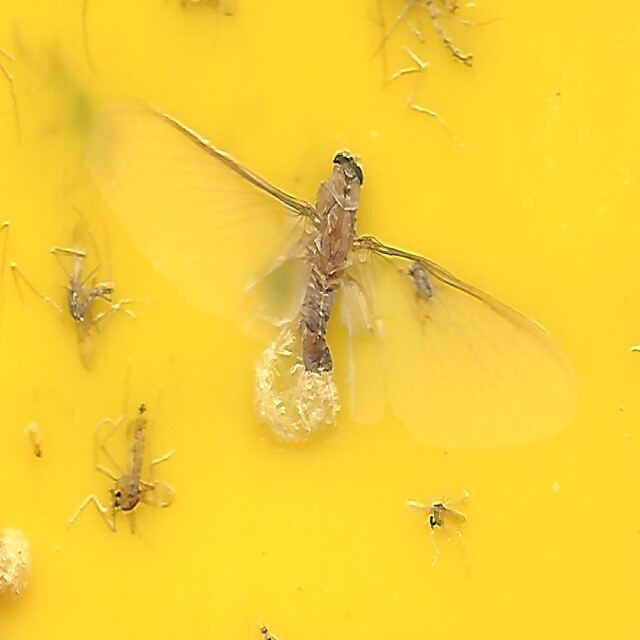Ephemeroptera: (84, 103, 580, 445)
Nematocera: (88, 386, 153, 537), (60, 252, 119, 323)
